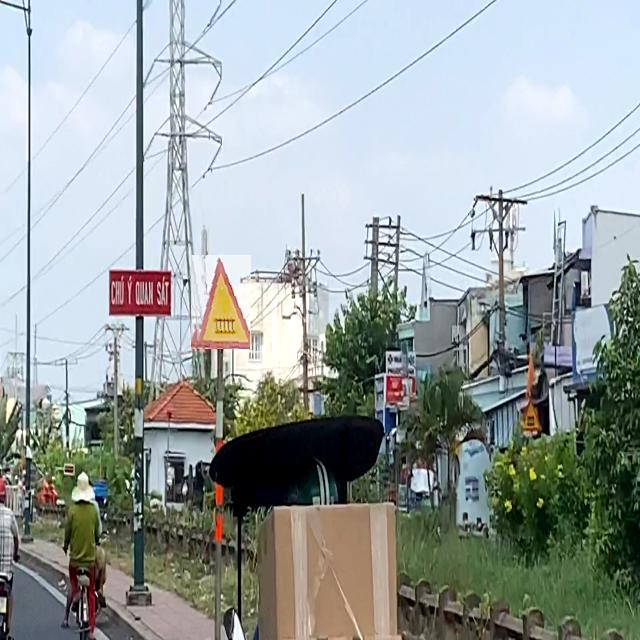W-210: (192, 255, 252, 349)
